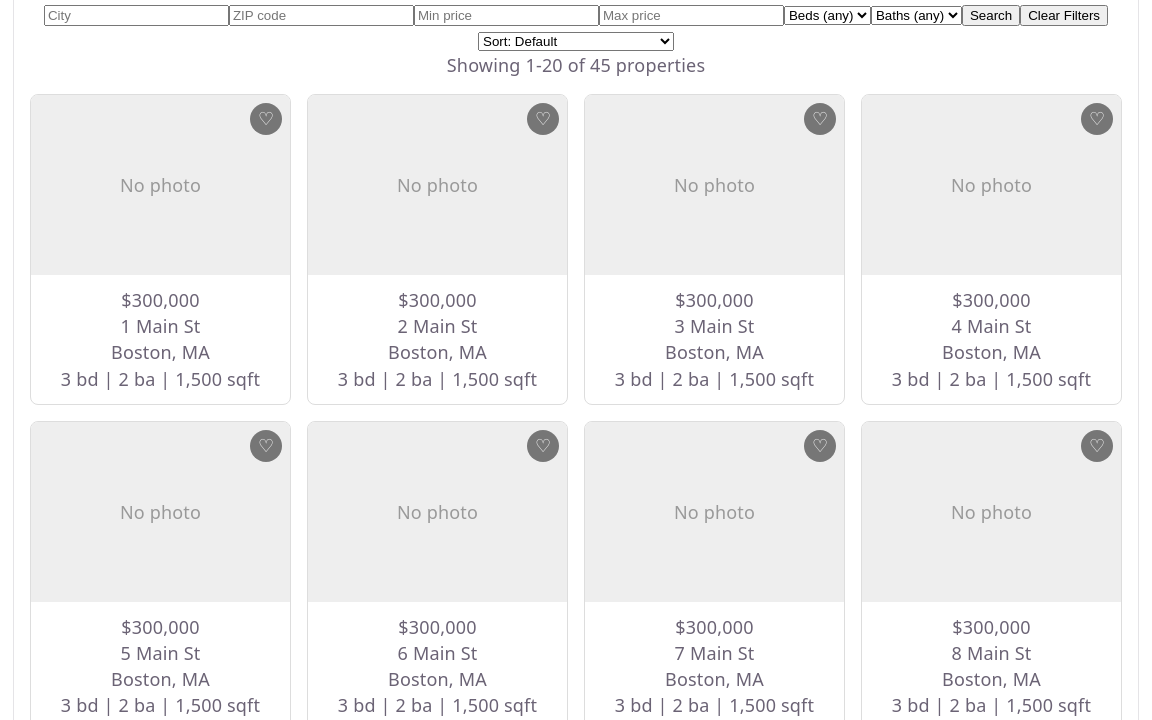
ListingsPage pagination › preserves the active sort when changing pages
The image size is (1152, 720).
Expected: the text "Showing 1-20 of 45 properties" is shown, [447,53,705,77]
Select "Price: Low to High" in the dropdown named "Sort properties" at (576, 42), box [478,32,674,51]
(page scrolled)
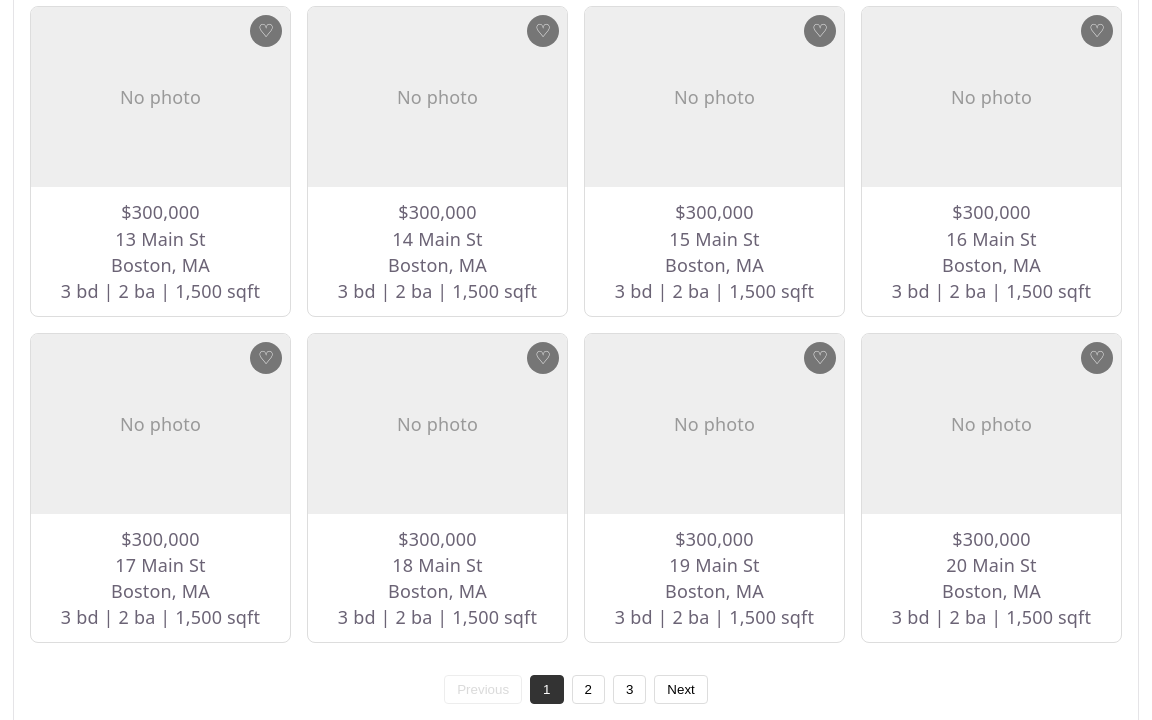
Click the button "Next".
click(681, 690)  # box [654,675,708,704]
(page scrolled)
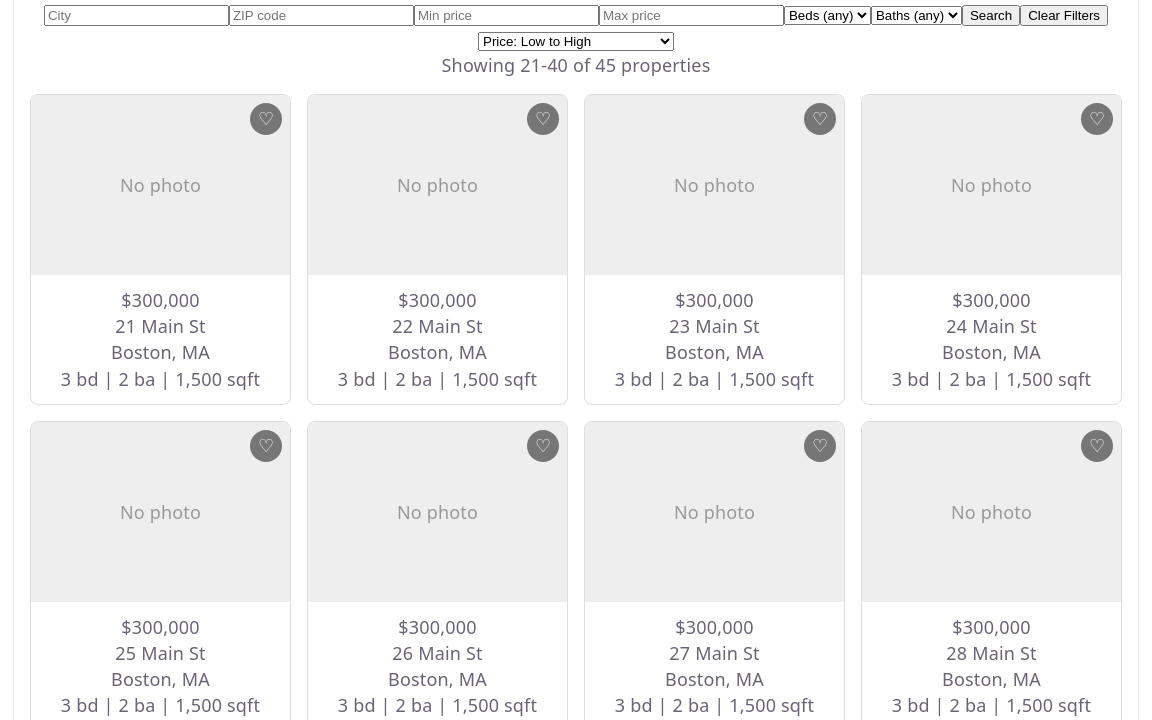
Now the text "Showing 21-40 of 45 properties" is shown, box [442,53,710,77]
